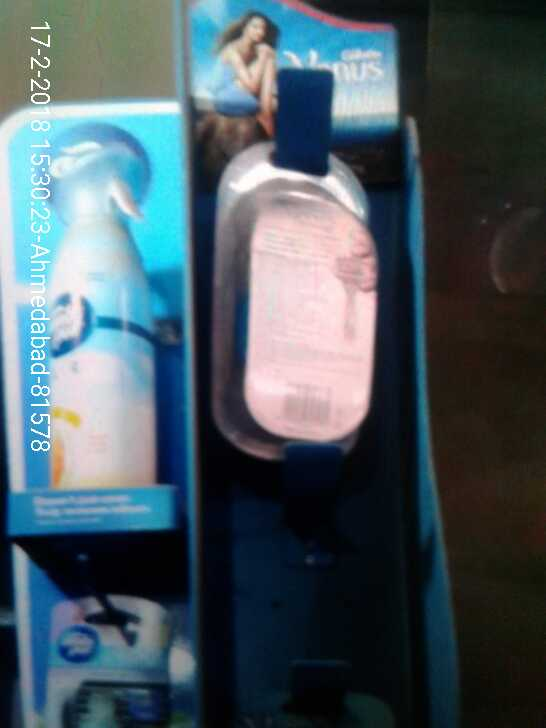ambipure: (40, 141, 173, 490)
